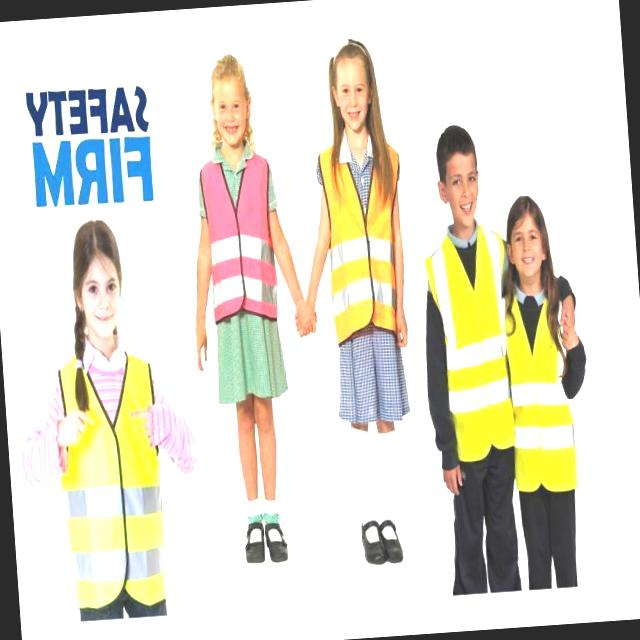vest: (49, 353, 178, 614), (421, 226, 508, 466), (322, 145, 415, 344), (502, 290, 578, 497), (198, 154, 282, 323)
